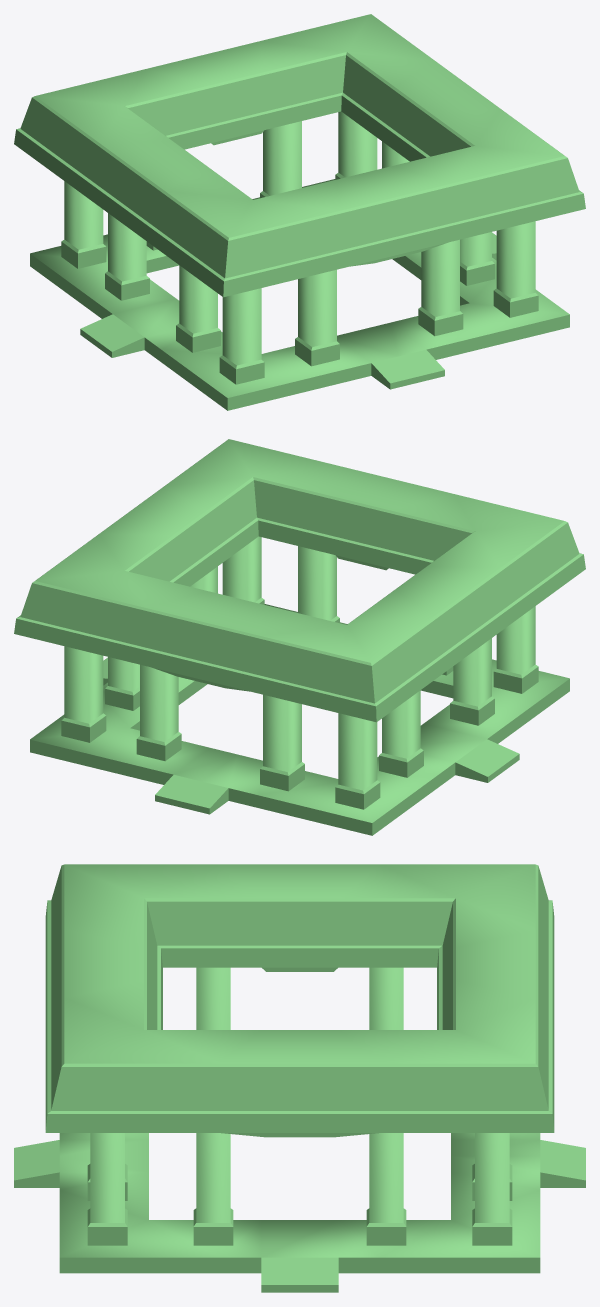
The model's file is maya_civiccenter_e.dae.
The picture shows the model from 3 angles, top to bottom: view 1: azimuth 30°, elevation 25°; view 2: azimuth 150°, elevation 25°; view 3: azimuth 270°, elevation 25°; orthographic projection. The views are drawn at different scales.
Parts seen in each view (by area): view 1: Box003_001; view 2: Box003_001; view 3: Box003_001.
Boxes of the visible parts, box(x1,y1,x2,y2) form: Box003_001: box(14, 14, 585, 410); Box003_001: box(14, 439, 585, 835); Box003_001: box(14, 864, 585, 1292).
Bounding box in the file's own units: 40.06 × 40.06 × 16.04.
